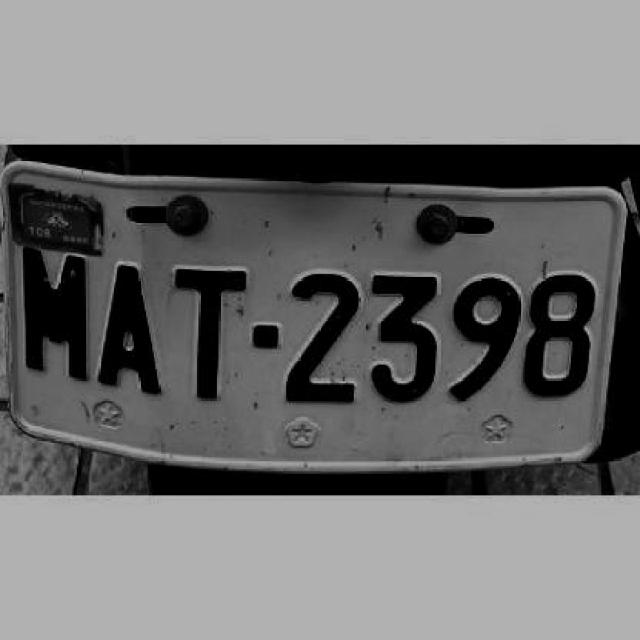-: (251, 322, 280, 351)
2: (280, 262, 362, 412)
3: (368, 262, 440, 412)
8: (520, 263, 594, 405)
9: (443, 272, 520, 403)
A: (92, 255, 163, 400)
M: (17, 237, 88, 385)
T: (171, 260, 246, 406)
